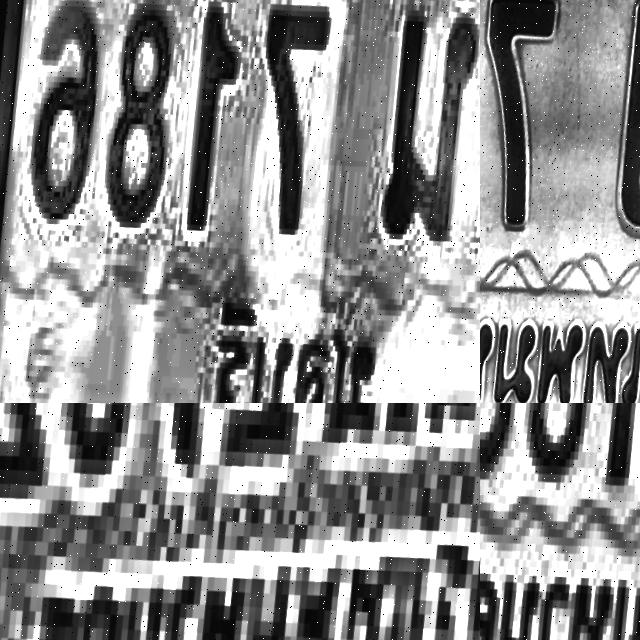license-plate: (0, 0, 480, 403), (0, 403, 480, 640), (480, 0, 640, 403), (480, 403, 640, 640)
